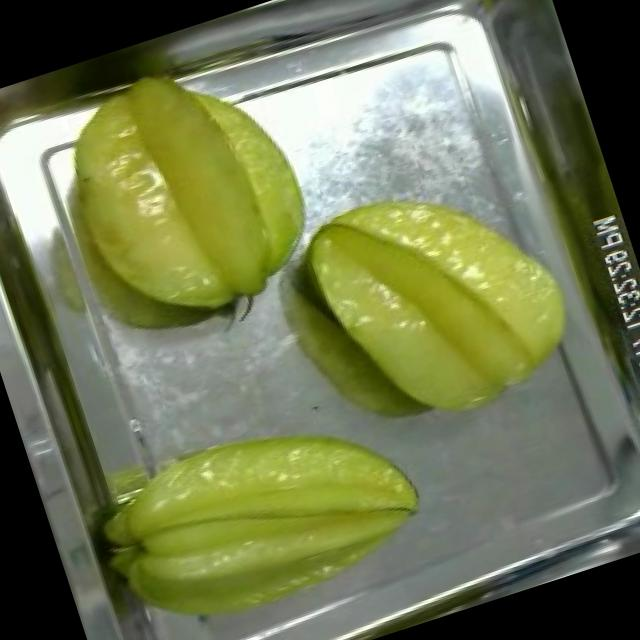fruit: (17, 29, 340, 362), (73, 374, 453, 640), (287, 141, 601, 459)
